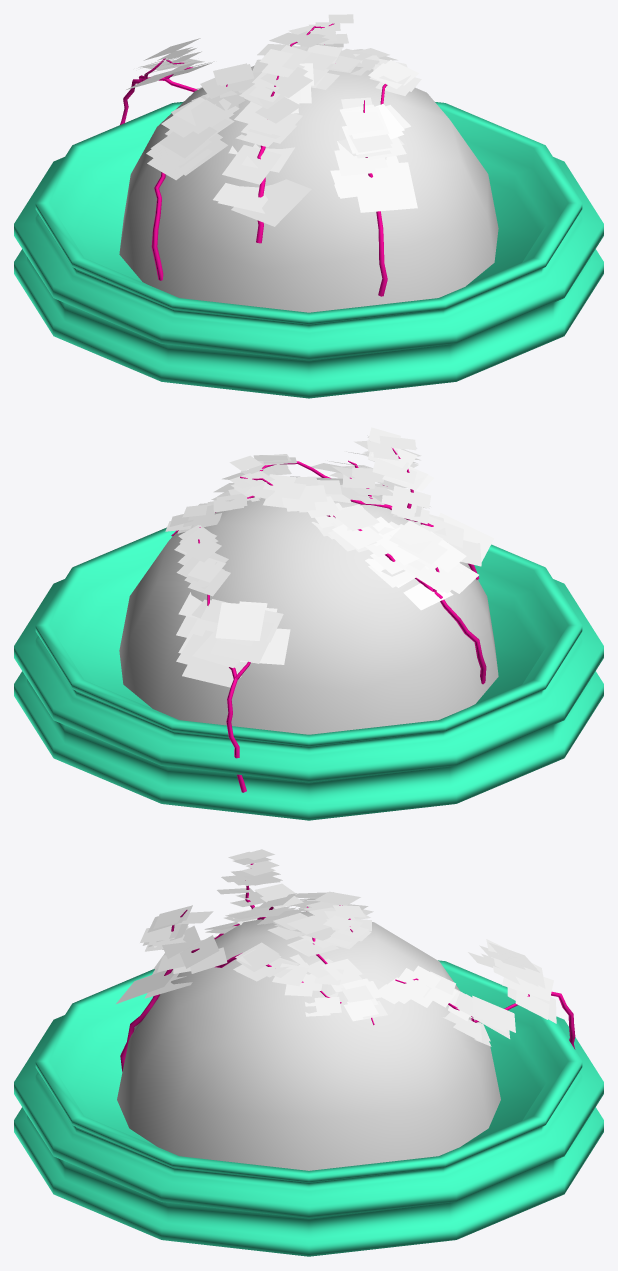
The model's file is Button.fbx.
The picture shows the model from 3 angles, top to bottom: view 1: azimuth 30°, elevation 25°; view 2: azimuth 150°, elevation 25°; view 3: azimuth 270°, elevation 25°; orthographic projection.
Visible parts, largest first — view 1: Cylinder, Cylinder.001; view 2: Cylinder, Cylinder.001; view 3: Cylinder, Cylinder.001.
Part boxes in pixels (bbox=[...]): Cylinder: bbox=[14, 14, 603, 398]; Cylinder.001: bbox=[119, 65, 498, 312]; Cylinder: bbox=[14, 427, 603, 820]; Cylinder.001: bbox=[119, 476, 498, 734]; Cylinder: bbox=[14, 849, 603, 1256]; Cylinder.001: bbox=[117, 911, 500, 1170].
Size of the model in its own units: 48.37 by 22.82 by 48.37.
